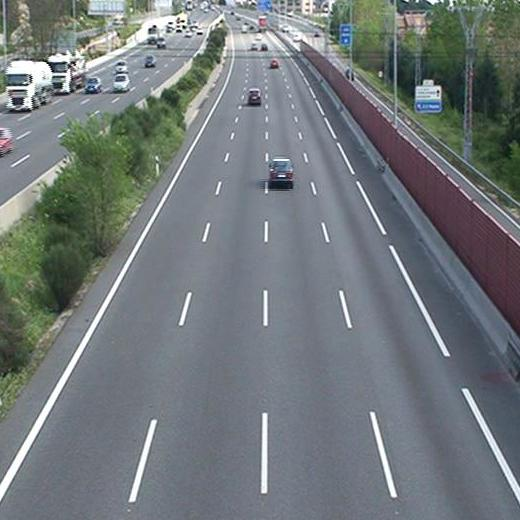car: (268, 158, 294, 185), (247, 88, 261, 104), (268, 58, 280, 69)
